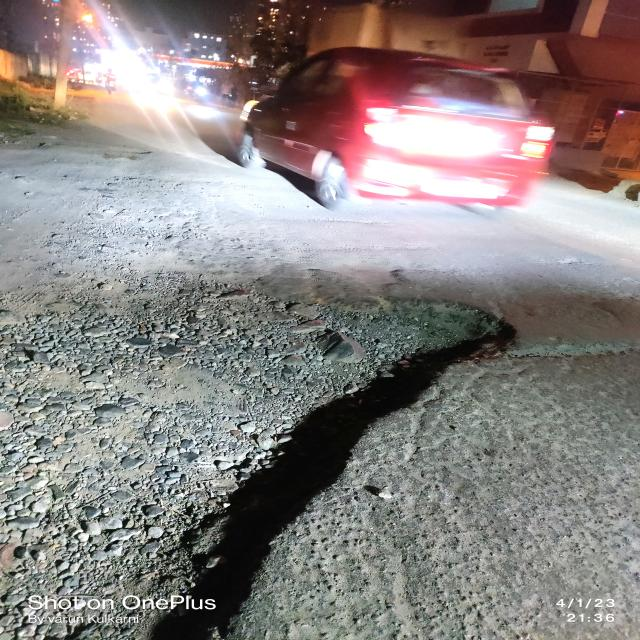potholes: (121, 290, 536, 640)
